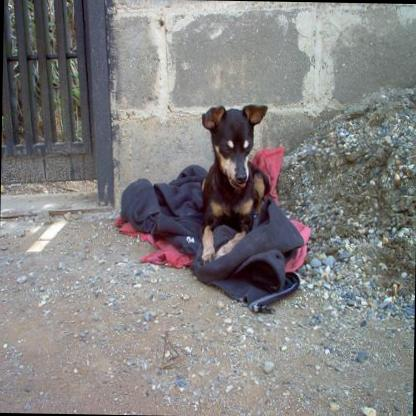Doberman: (198, 101, 272, 266)
